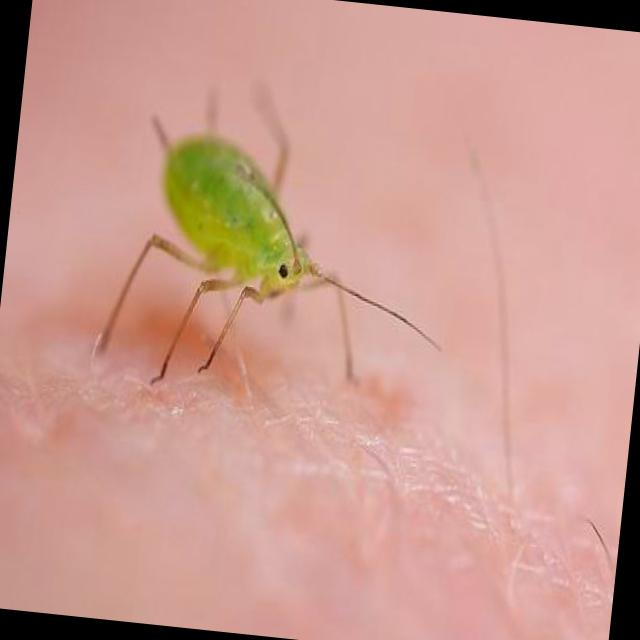Aphid: (51, 57, 458, 444)
